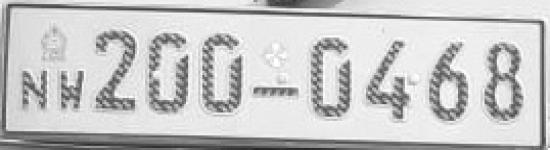-: (247, 78, 301, 103)
0: (139, 28, 195, 120), (198, 27, 253, 117), (307, 35, 353, 122)
2: (94, 20, 141, 119)
4: (358, 33, 419, 126)
6: (420, 36, 478, 129)
8: (478, 36, 528, 135)
N: (16, 65, 52, 119)
W: (56, 64, 90, 121)
